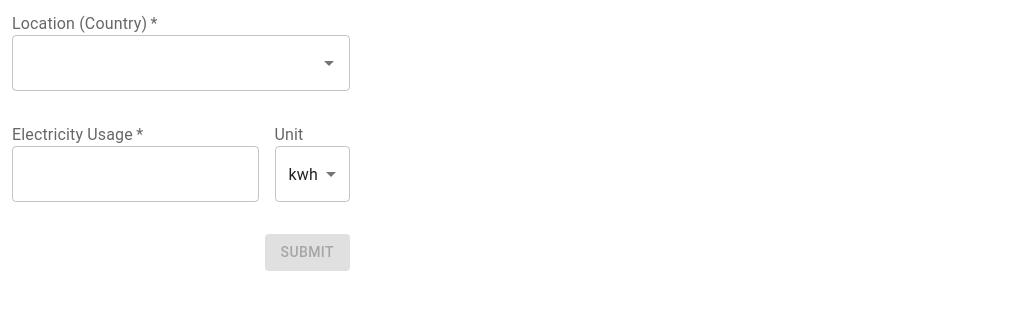
Test: Electricity Usage Input › shows an error on blur
Click the field labelled "Electricity Usage": x=135, y=174 [12, 146, 258, 202]
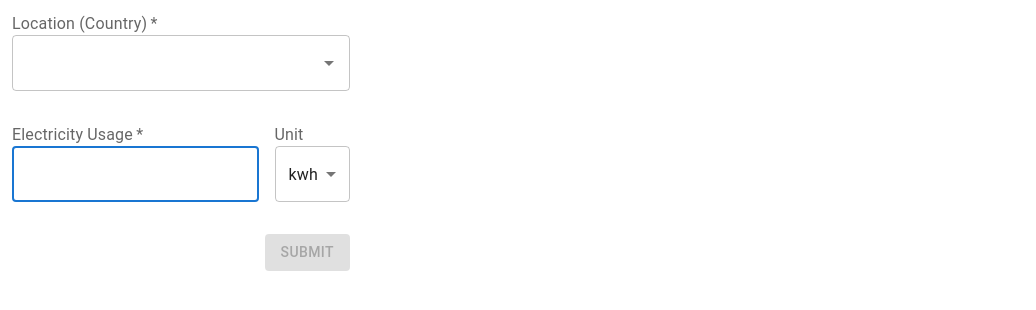
Click the element showing "Location (Country) * Electricity Usage * Unit kwh Submit": x=524, y=141 [12, 12, 1035, 270]
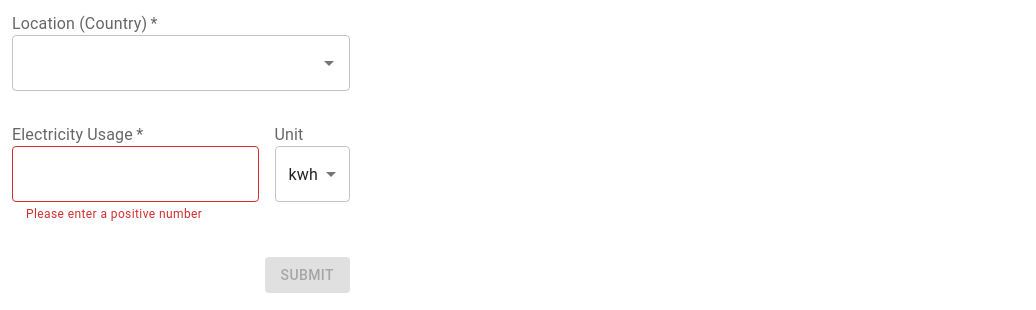
Expected: the text "Please enter a positive number" is shown, [26, 207, 202, 221]
